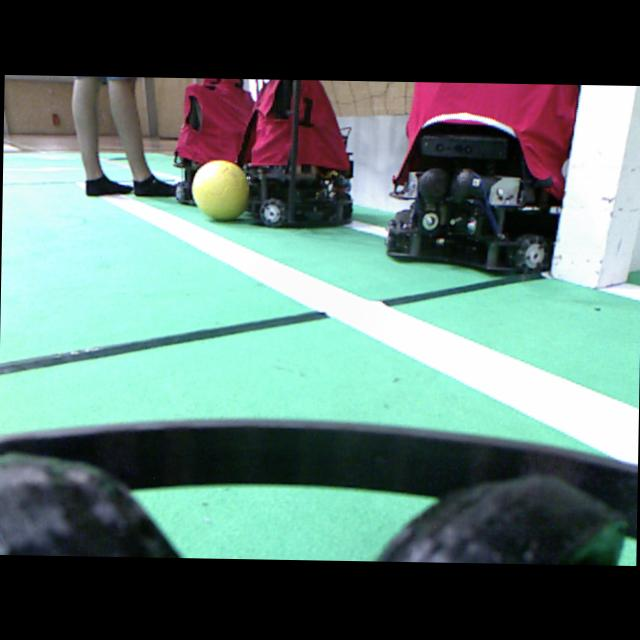ball: (191, 160, 247, 219)
goal: (551, 85, 640, 286)
